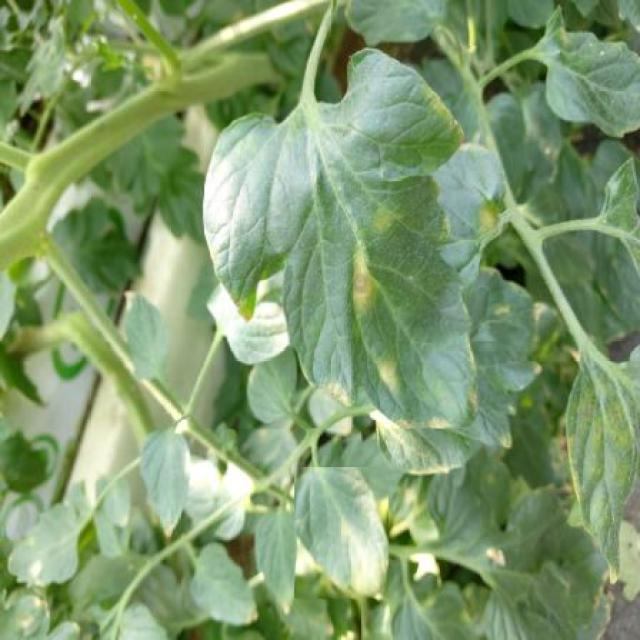Leaf Mold: (204, 46, 479, 428), (294, 468, 389, 599)
